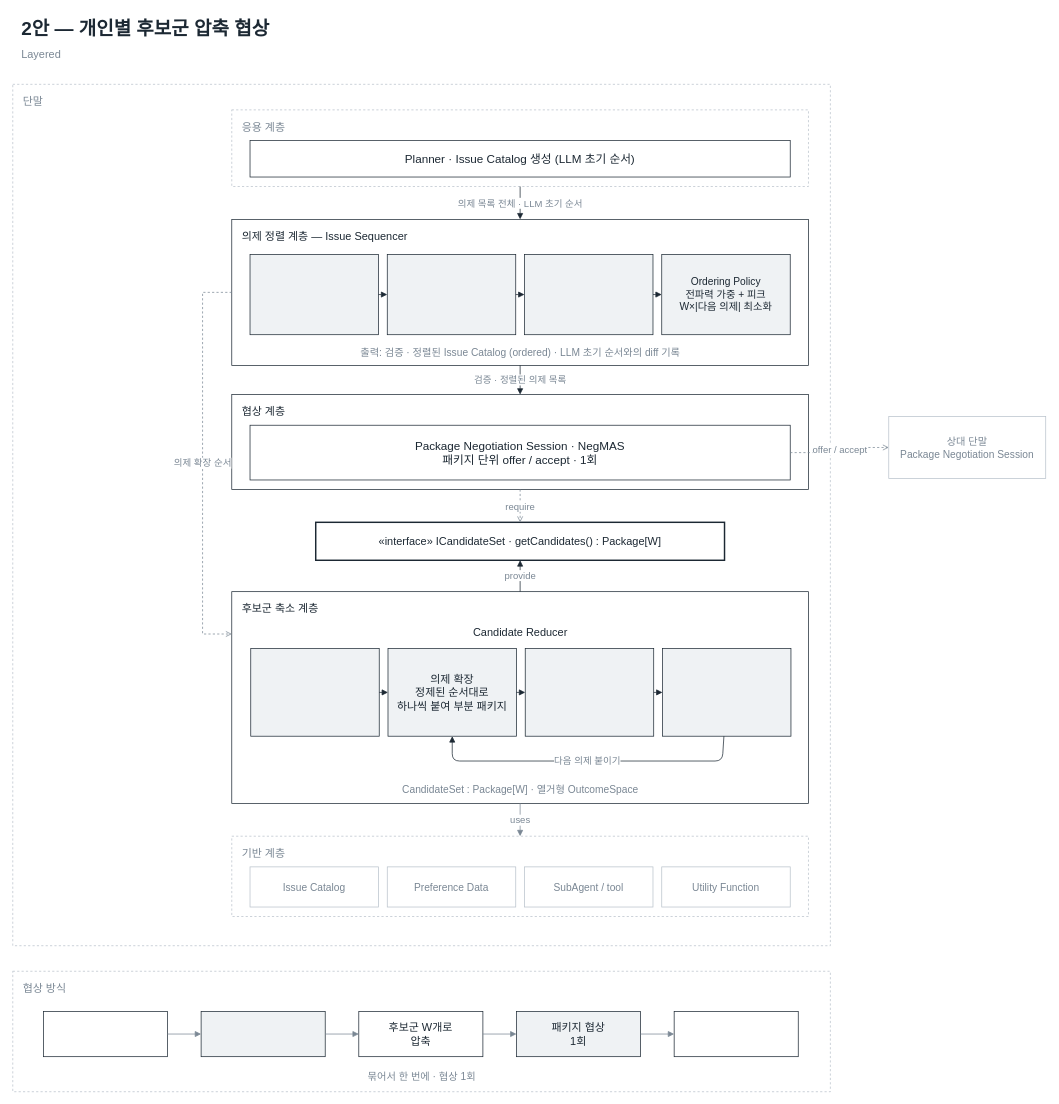
Some shapes in this 1059 by 1104 pixel diagram are drawn without their labels. Here are the shapes that lost their labels. From the top down, the centre of each, then its label:
At point 314,294: "Catalog Validator 스키마 · 중복 · 순환 검증".
At point 451,294: "Dependency Graph Builder 선후 관계 위상 정렬 (1일차 → 2일차)".
At point 588,294: "Sensitivity Scorer 계절 · 날씨 · 시간 민감도 = 제약 전파력 점수".
At point 314,692: "제약 필터 불가능 조합 제거".
At point 589,692: "부분 평가 패키지 통째로".
At point 726,692: "상위 W 선별 W = 메모리 다이얼".
At point 105,1034: "날짜 · 장소 시간 · 식당".
At point 262,1034: "의제 검증 · 정렬 Issue Sequencer".
At point 735,1034: "합의".
